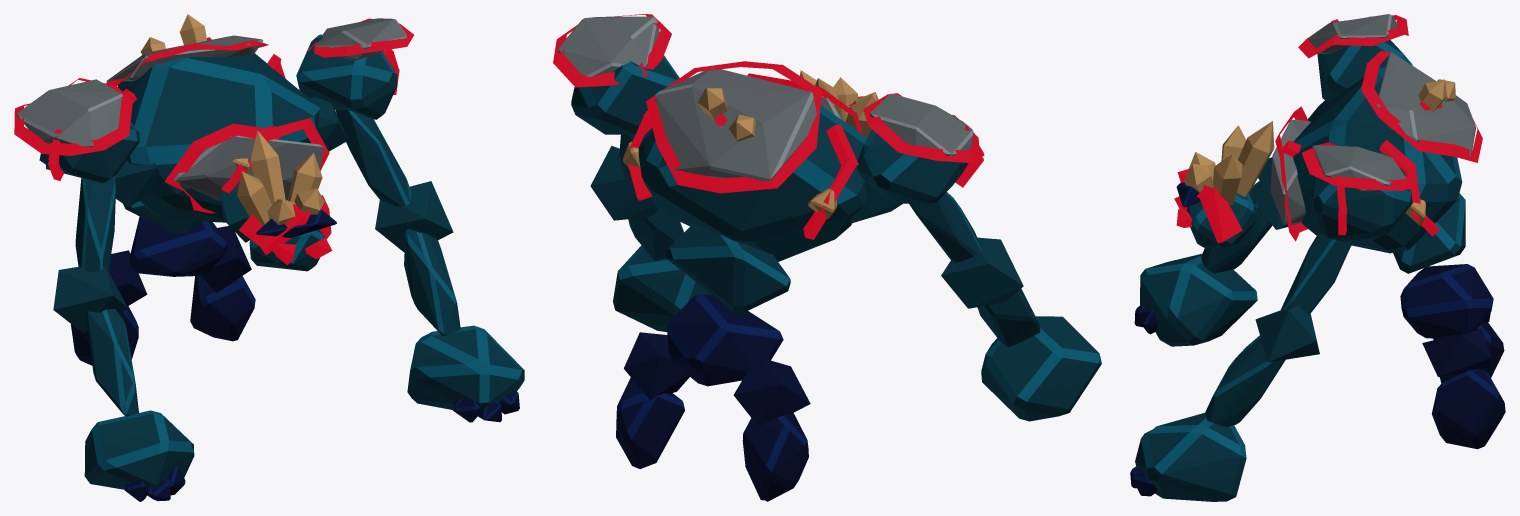
The model's file is OreGolem_Boss.glb.
The picture shows the model from 3 angles, left to right: view 1: azimuth 30°, elevation 25°; view 2: azimuth 150°, elevation 25°; view 3: azimuth 270°, elevation 25°; orthographic projection. The views are drawn at different scales.
Visible parts, largest first — view 1: Torso, Arm_L, Fist_L, Fist_R, Arm_R, Plate_4, Body, Plate_1, Forearm_L, Forearm_R, Leg_L, Head (+19 smaller); view 2: Torso, Plate_2, Fist_R, Arm_R, Body, Arm_L, Fist_L, Plate_3, Seam_2, Leg_R, Leg_L, Plate_4 (+10 smaller); view 3: Torso, Fist_L, Fist_R, Arm_L, Body, Plate_2, Leg_L, Forearm_L, Arm_R, Elbow_L, Plate_3, Head (+15 smaller).
Boxes of the visible parts, bbox=[...] form: Torso: bbox=[118, 14, 320, 232]; Arm_L: bbox=[296, 34, 411, 206]; Fist_L: bbox=[407, 325, 524, 422]; Fist_R: bbox=[84, 410, 194, 501]; Arm_R: bbox=[39, 122, 139, 272]; Plate_4: bbox=[17, 79, 122, 146]; Body: bbox=[130, 216, 228, 276]; Plate_1: bbox=[174, 135, 323, 201]; Forearm_L: bbox=[404, 229, 460, 335]; Forearm_R: bbox=[85, 308, 138, 416]; Leg_L: bbox=[190, 276, 255, 341]; Head: bbox=[249, 209, 336, 271]; Torso: bbox=[623, 88, 867, 311]; Plate_2: bbox=[655, 67, 816, 181]; Fist_R: bbox=[981, 316, 1101, 421]; Arm_R: bbox=[857, 125, 984, 262]; Body: bbox=[667, 294, 783, 386]; Arm_L: bbox=[571, 55, 679, 182]; Fist_L: bbox=[613, 245, 711, 331]; Plate_3: bbox=[558, 16, 659, 76]; Seam_2: bbox=[646, 61, 821, 193]; Leg_R: bbox=[742, 413, 808, 501]; Leg_L: bbox=[616, 377, 684, 468]; Plate_4: bbox=[869, 93, 973, 155]; Torso: bbox=[1283, 67, 1465, 273]; Fist_L: bbox=[1130, 413, 1246, 501]; Fist_R: bbox=[1134, 254, 1257, 346]; Arm_L: bbox=[1280, 152, 1412, 314]; Body: bbox=[1400, 264, 1493, 338]; Plate_2: bbox=[1376, 52, 1475, 157]; Leg_L: bbox=[1432, 369, 1505, 449]; Forearm_L: bbox=[1205, 335, 1285, 426]; Arm_R: bbox=[1308, 19, 1412, 121]; Elbow_L: bbox=[1255, 305, 1319, 362]; Plate_3: bbox=[1312, 145, 1406, 192]; Head: bbox=[1174, 182, 1257, 249].
Bounding box in the file's own units: 2.13 × 1.7 × 1.65.
